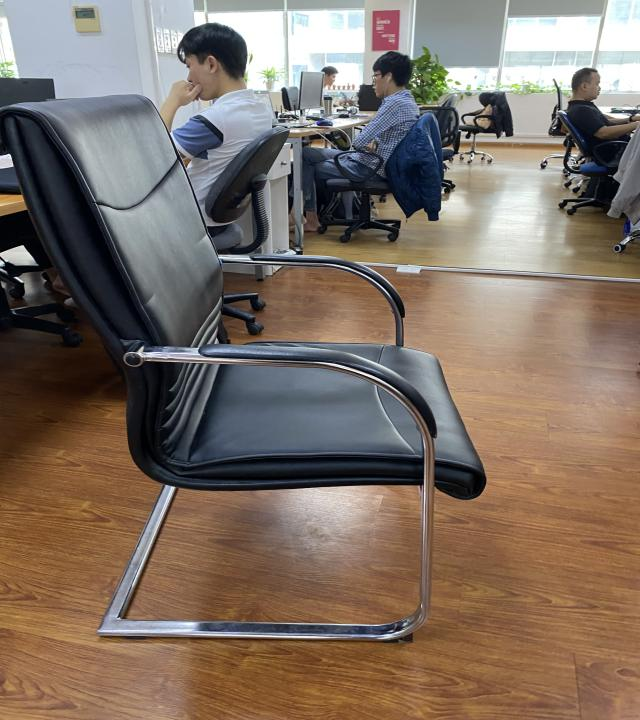SS_03: (0, 88, 488, 643)
